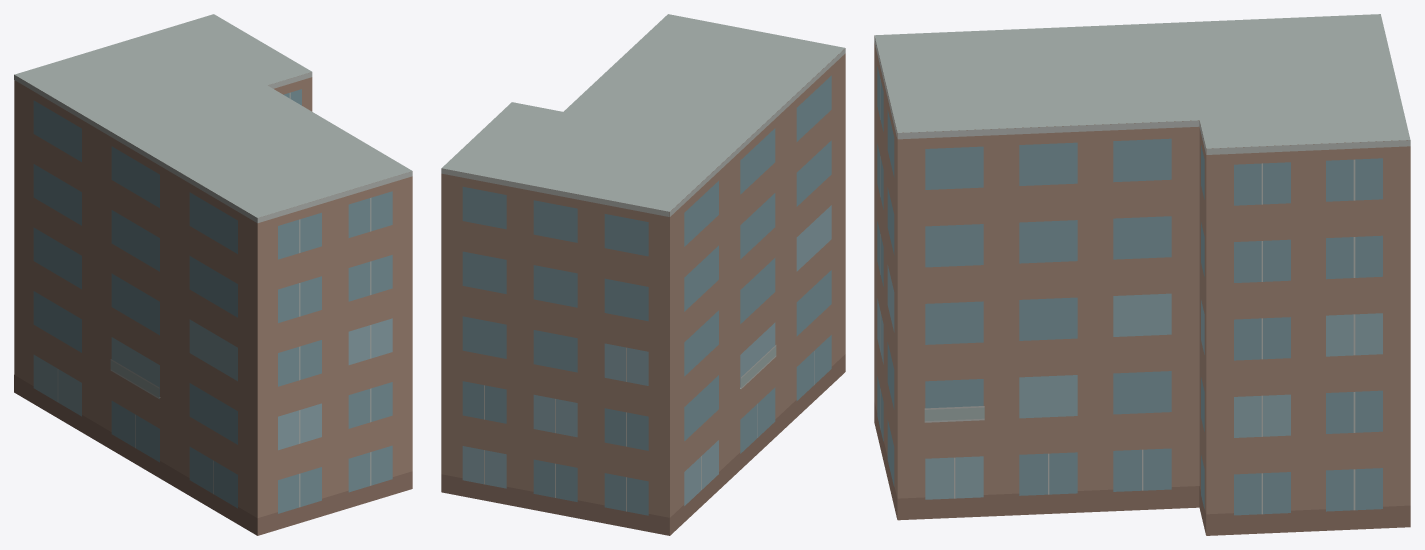
File: survey-upis-32918099.glb
3 views of the same model, side by side, from view 1: azimuth 30°, elevation 25°; view 2: azimuth 150°, elevation 25°; view 3: azimuth 270°, elevation 25° (orthographic). The views are drawn at different scales.
Visible parts, largest first — view 1: survey-upis-32918099.tmp; view 2: survey-upis-32918099.tmp; view 3: survey-upis-32918099.tmp.
Boxes of the visible parts, x1,y1,x2,y2 form: survey-upis-32918099.tmp: [14, 14, 412, 535]; survey-upis-32918099.tmp: [441, 14, 845, 535]; survey-upis-32918099.tmp: [874, 14, 1410, 535].
Size of the model in its own units: 11.05 by 14.8 by 18.58.
